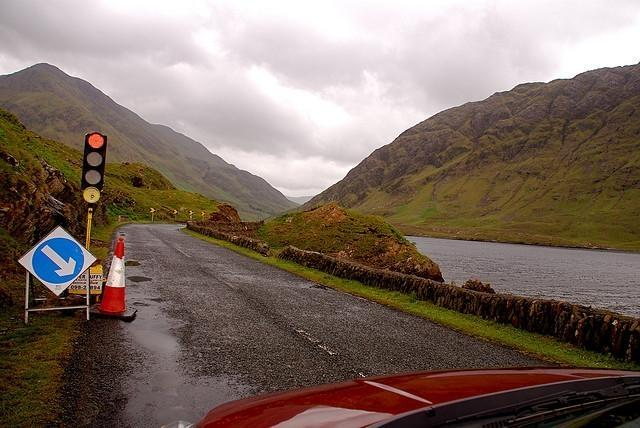car: (199, 366, 640, 423)
